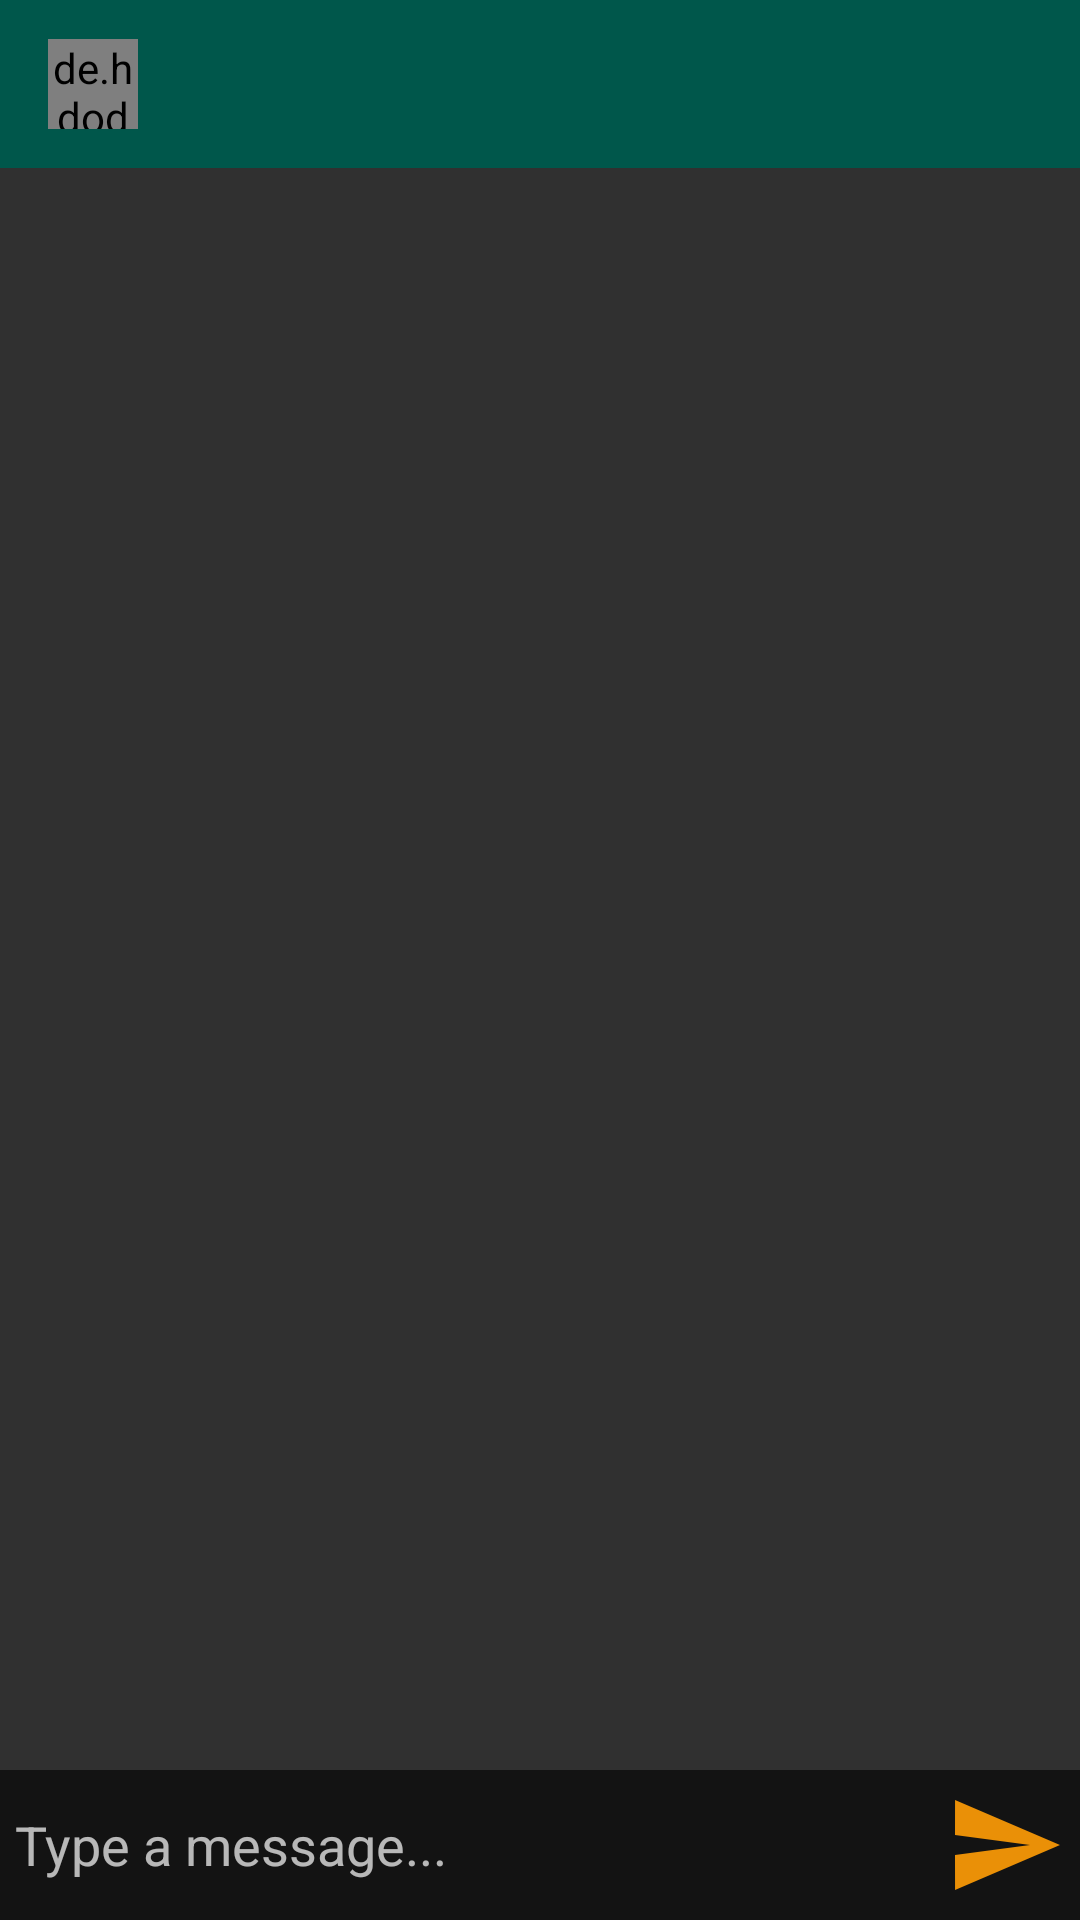

Named icons in this screenshot (1080px x 1920px) and their centers, [x,y]:
send: [1007,1845]
